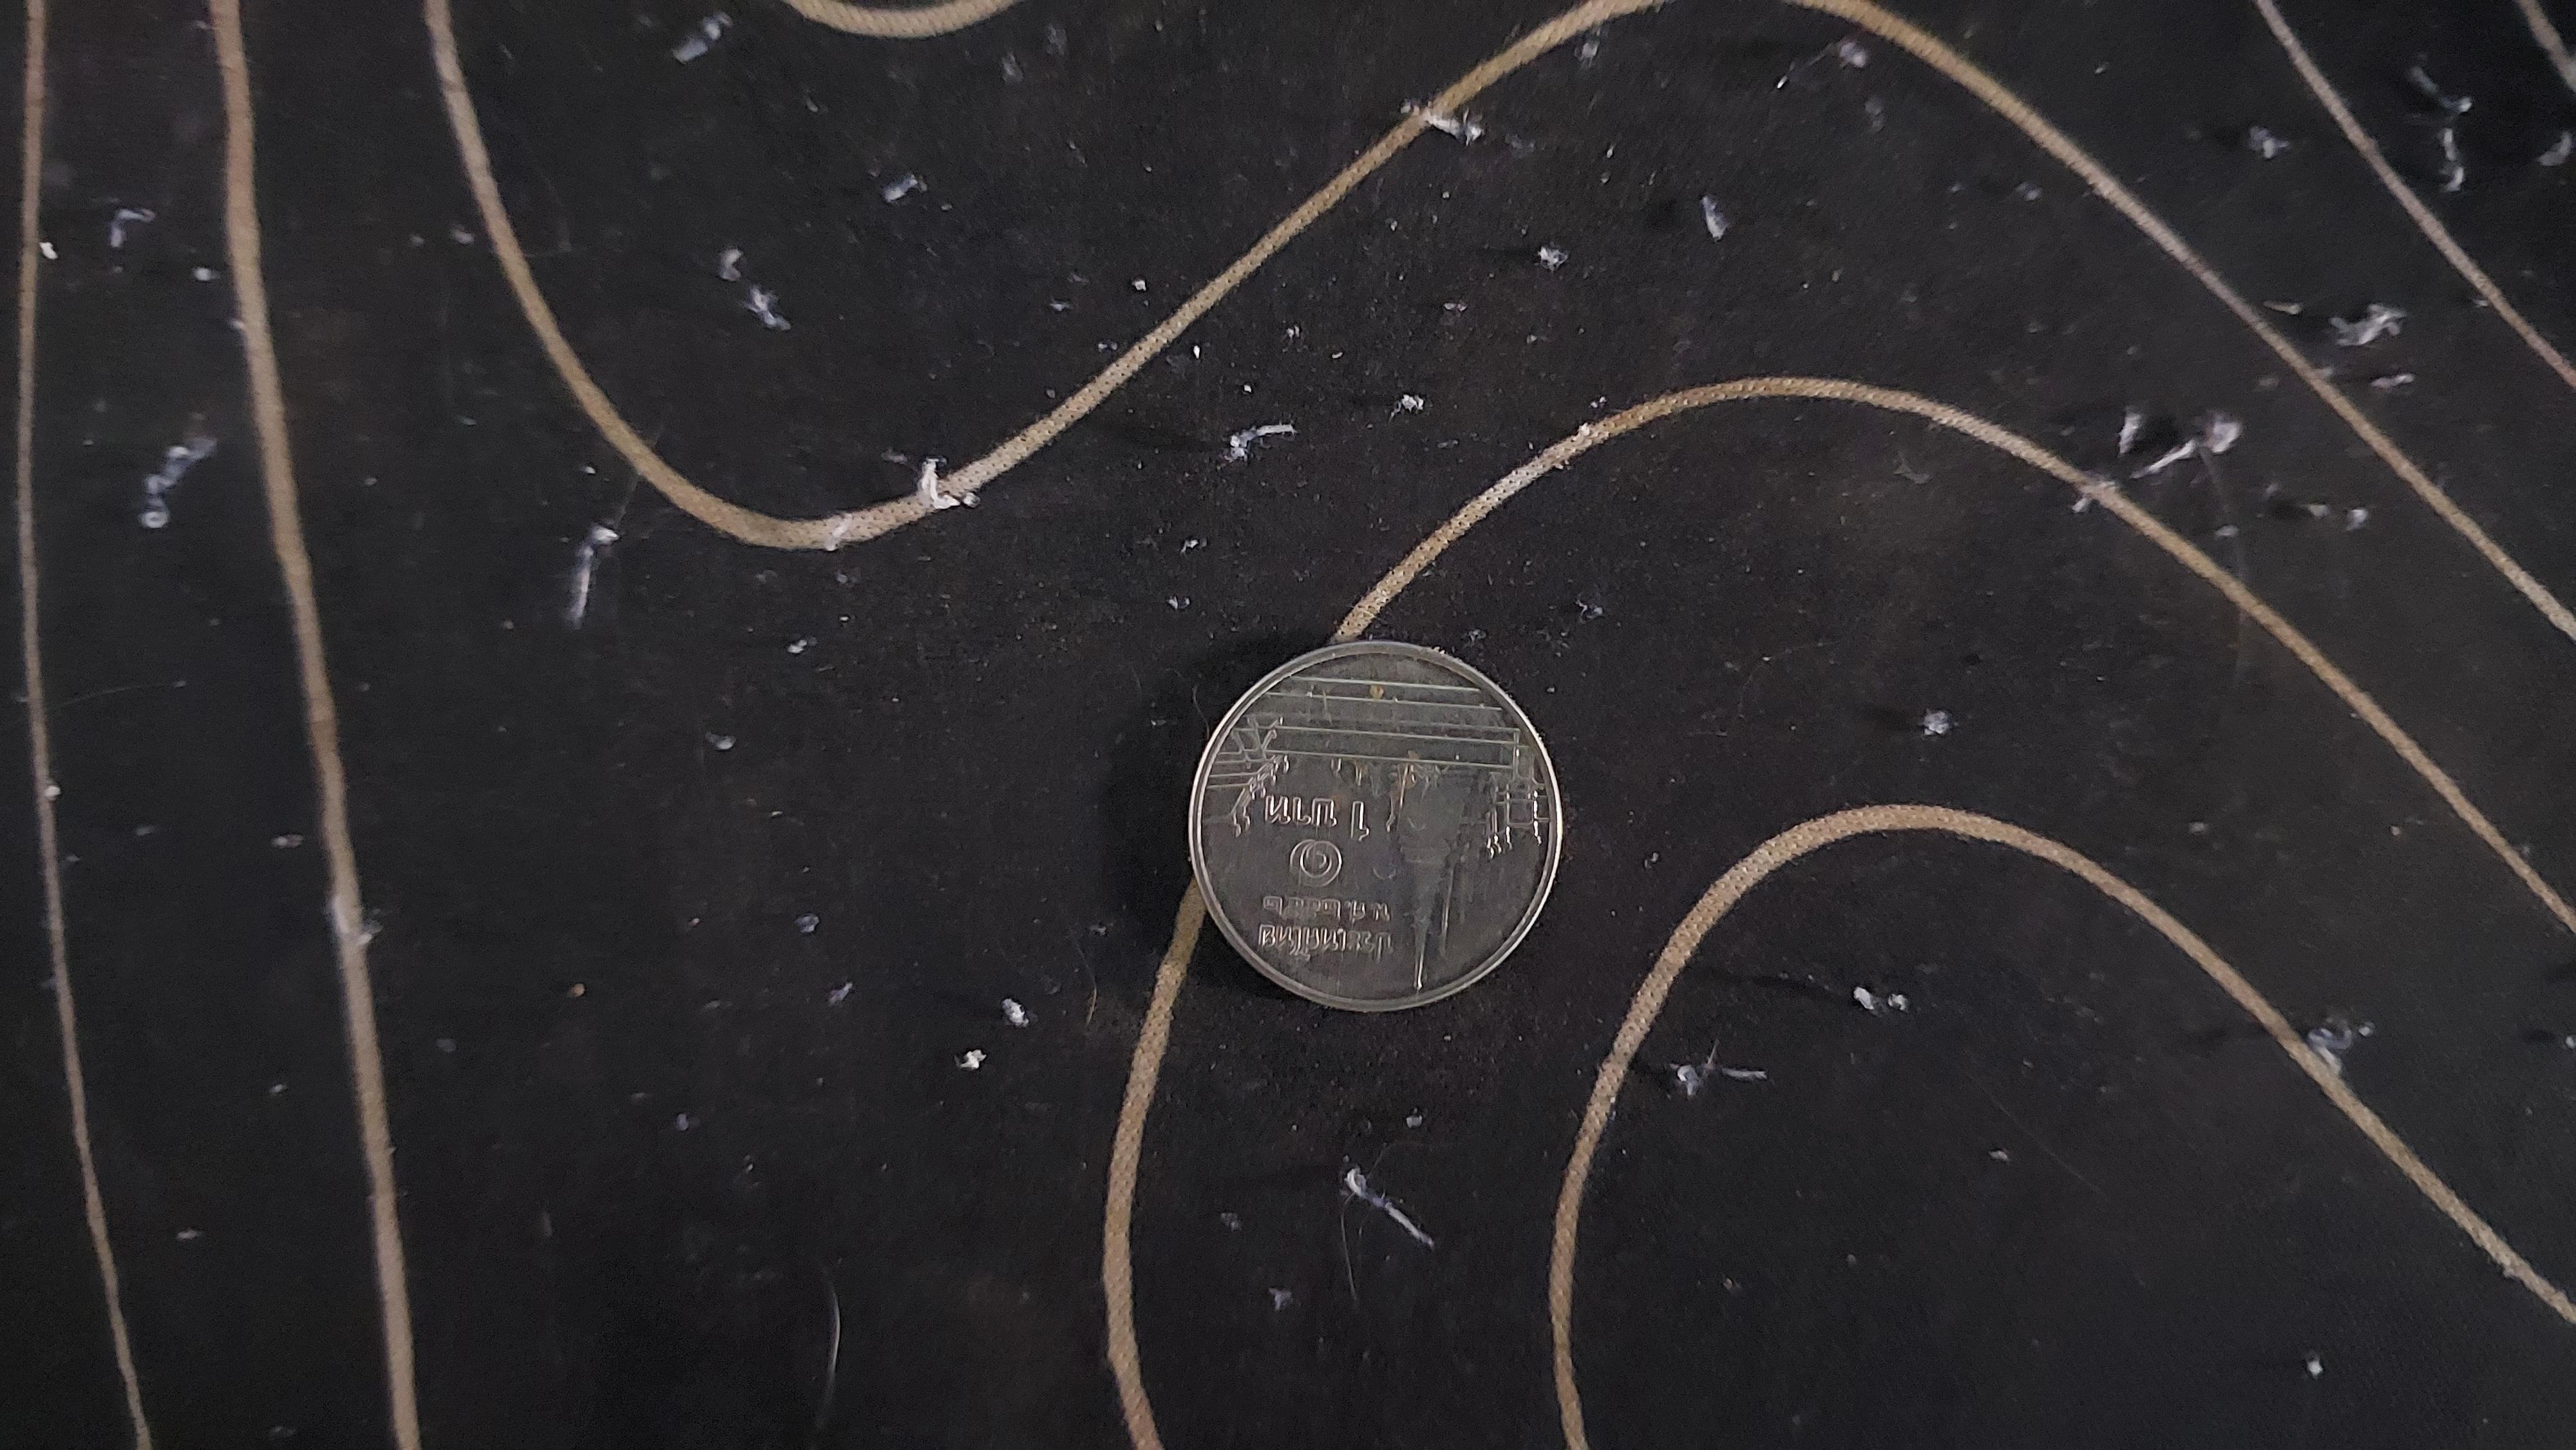1baht: (1164, 637, 1612, 1054)
